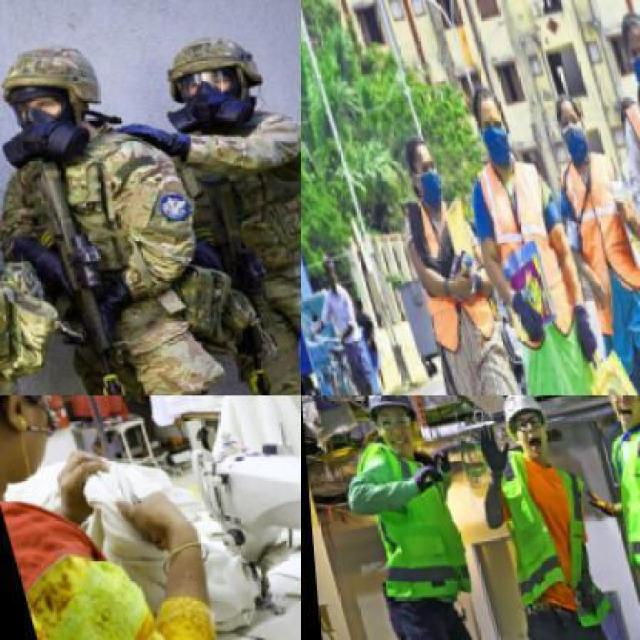Vest: (0, 128, 200, 328), (474, 437, 611, 638), (340, 428, 475, 623), (463, 156, 575, 352), (168, 103, 298, 260), (543, 144, 639, 328), (394, 200, 492, 348), (591, 416, 638, 578)
